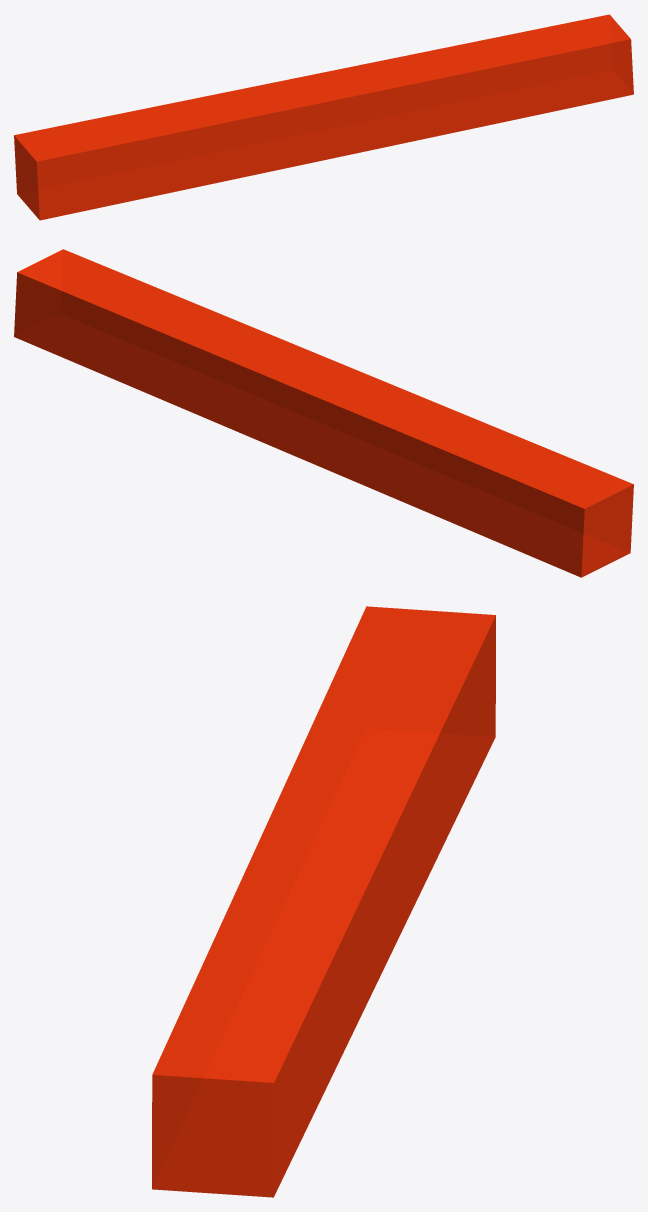
Rendered from Event_420604493_EErechit_29.fbx.
The picture shows the model from 3 angles, top to bottom: view 1: azimuth 30°, elevation 25°; view 2: azimuth 150°, elevation 25°; view 3: azimuth 270°, elevation 25°; orthographic projection. The views are drawn at different scales.
Visible parts, largest first — view 1: Model; view 2: Model; view 3: Model.
Part boxes in pixels (box(x1,y1,x2,y2)): Model: box(14, 14, 633, 220); Model: box(14, 249, 633, 577); Model: box(152, 606, 495, 1197).
Size of the model in its own units: 0.7491 by 0.116 by 0.202.
